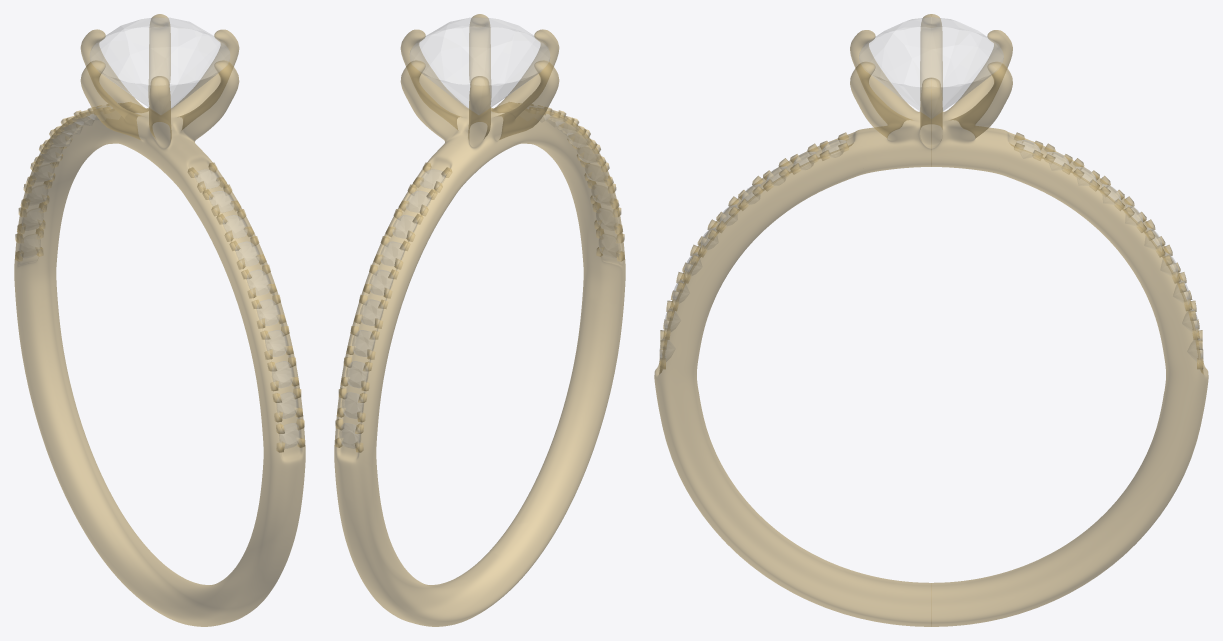
3 views of the same model, side by side, from view 1: azimuth 30°, elevation 25°; view 2: azimuth 150°, elevation 25°; view 3: azimuth 270°, elevation 25° (orthographic). The views are drawn at different scales.
Visible parts, largest first — view 1: Ring, Diamond; view 2: Ring, Diamond; view 3: Ring, Diamond.
Boxes of the visible parts, x1,y1,x2,y2 form: Ring: (14, 14, 305, 626); Diamond: (19, 18, 300, 448); Ring: (334, 14, 625, 626); Diamond: (339, 18, 620, 448); Ring: (654, 14, 1208, 626); Diamond: (660, 17, 1202, 361).
Bounding box in the file's own units: 0.7771 × 2.75 × 2.34.
